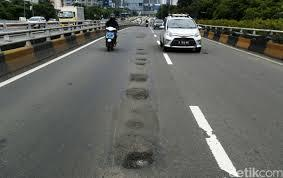Pothole: (124, 121, 155, 172), (127, 72, 149, 106), (134, 42, 146, 72), (131, 33, 149, 44)
